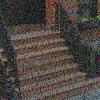stairs: (3, 32, 88, 100)
